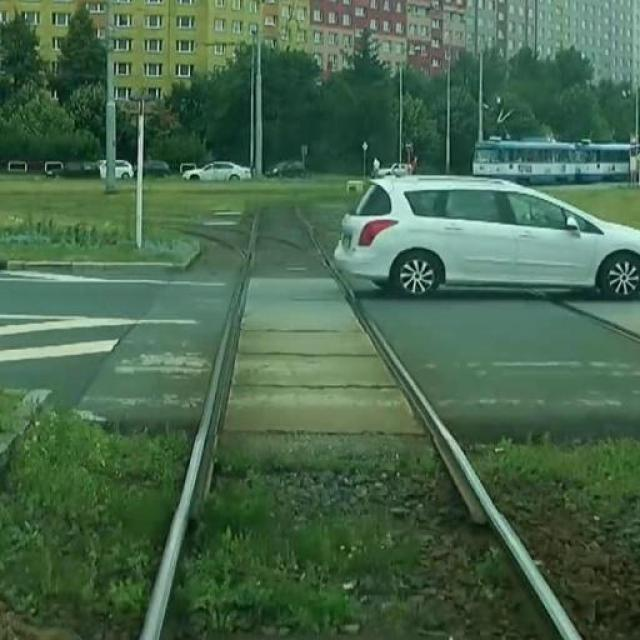vehicle: (334, 171, 640, 306), (183, 158, 253, 184), (261, 155, 309, 184), (373, 163, 413, 178)
